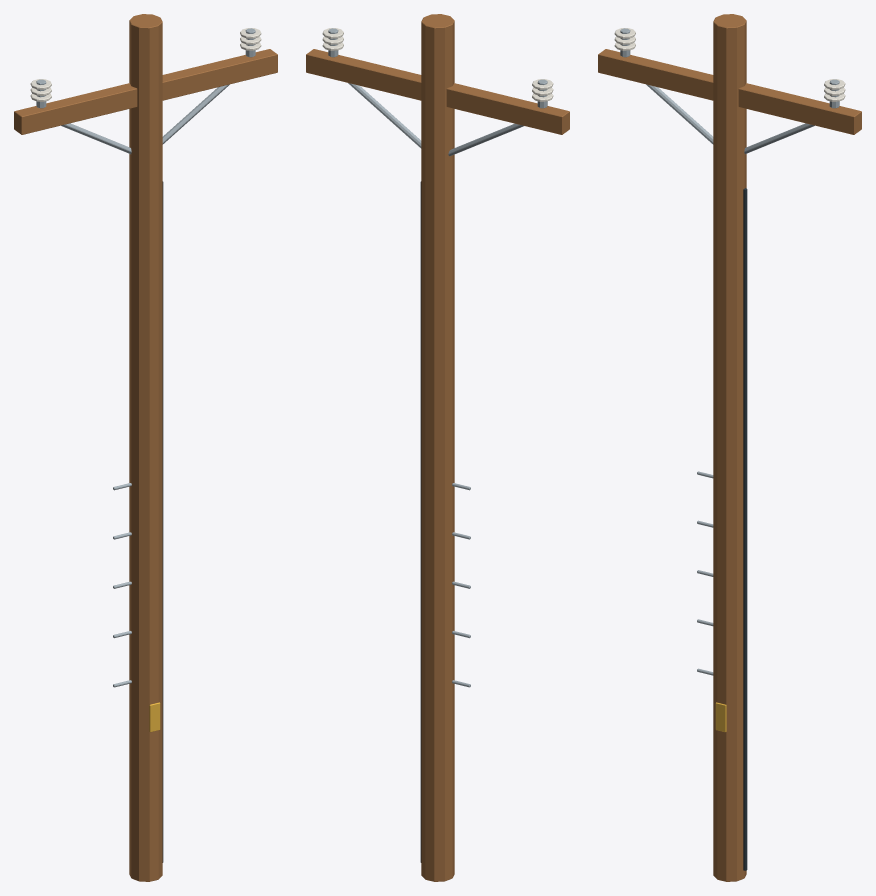
The model's file is b05_wood_distribution_power_pole.glb.
3 views of the same model, side by side, from view 1: azimuth 30°, elevation 25°; view 2: azimuth 150°, elevation 25°; view 3: azimuth 330°, elevation 25° (orthographic).
Visible parts, largest first — view 1: b05_wood_distribution_power_pole; view 2: b05_wood_distribution_power_pole; view 3: b05_wood_distribution_power_pole.
Part boxes in pixels (<box>): b05_wood_distribution_power_pole: <box>14,14,277,881</box>; b05_wood_distribution_power_pole: <box>306,14,569,881</box>; b05_wood_distribution_power_pole: <box>598,14,861,881</box>.
Size of the model in its own units: 2.45 by 7.8 by 0.2876.
